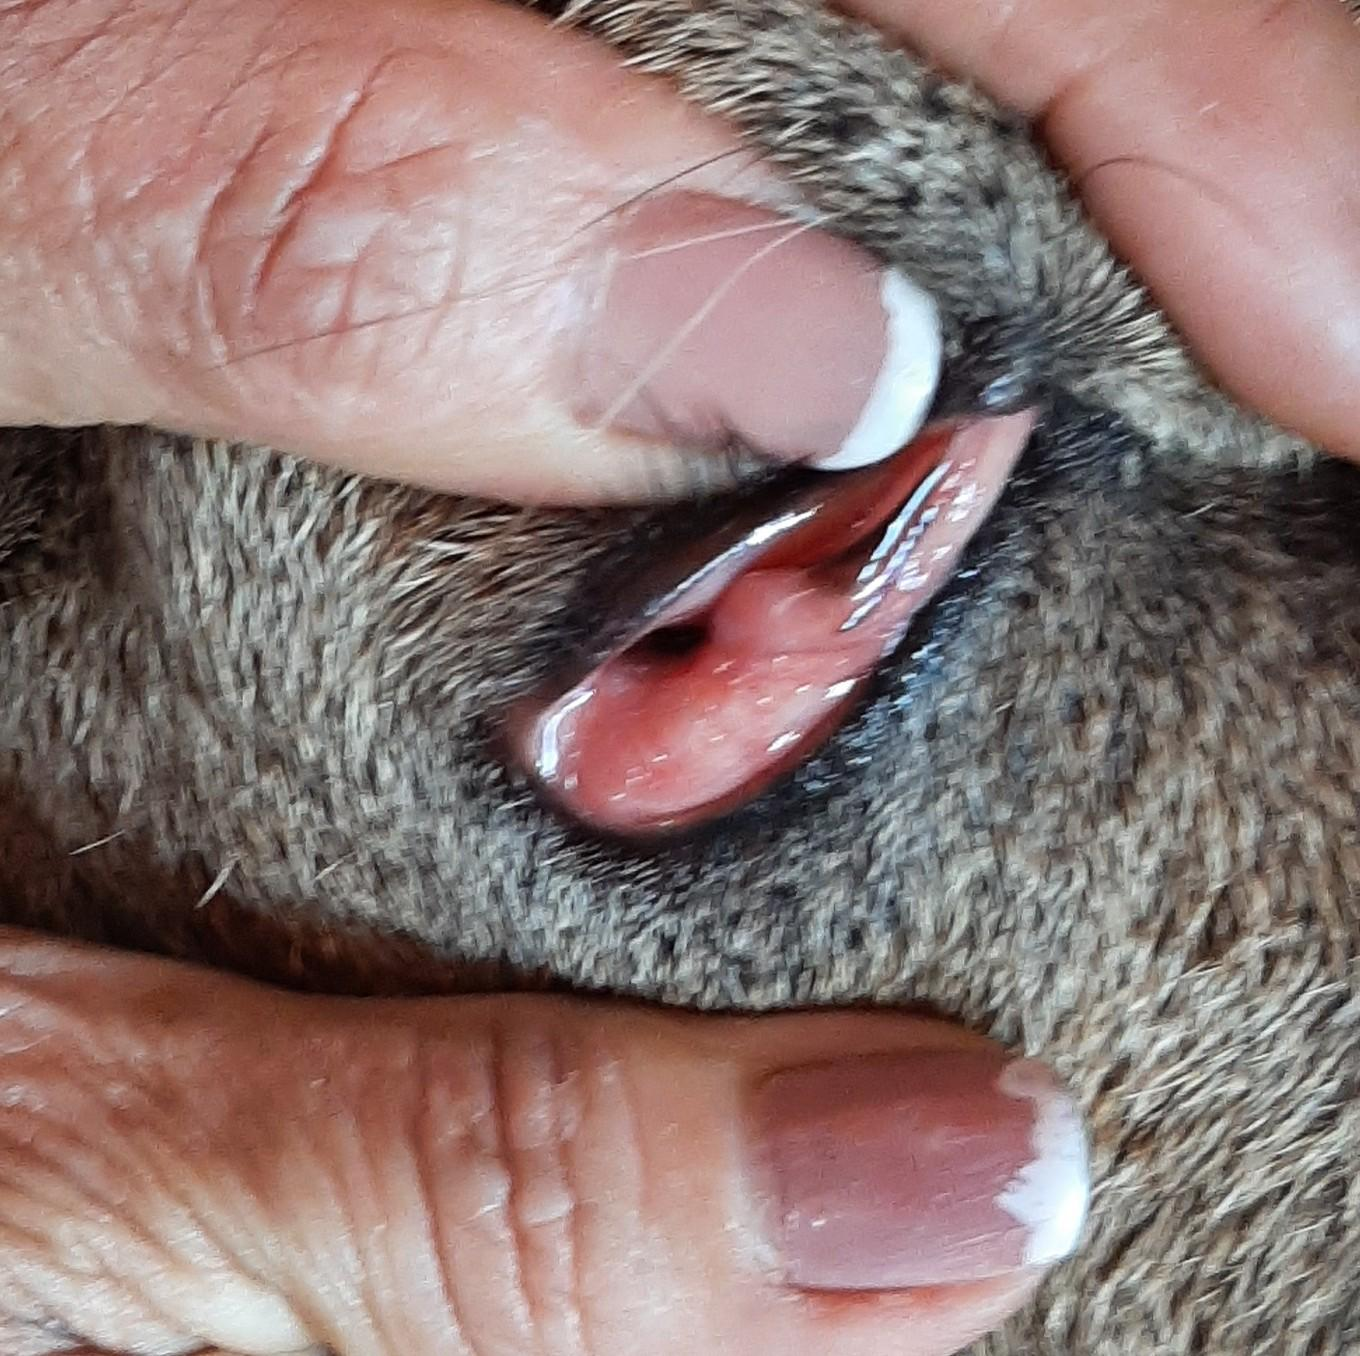eye_membrane: (515, 426, 1026, 822)
